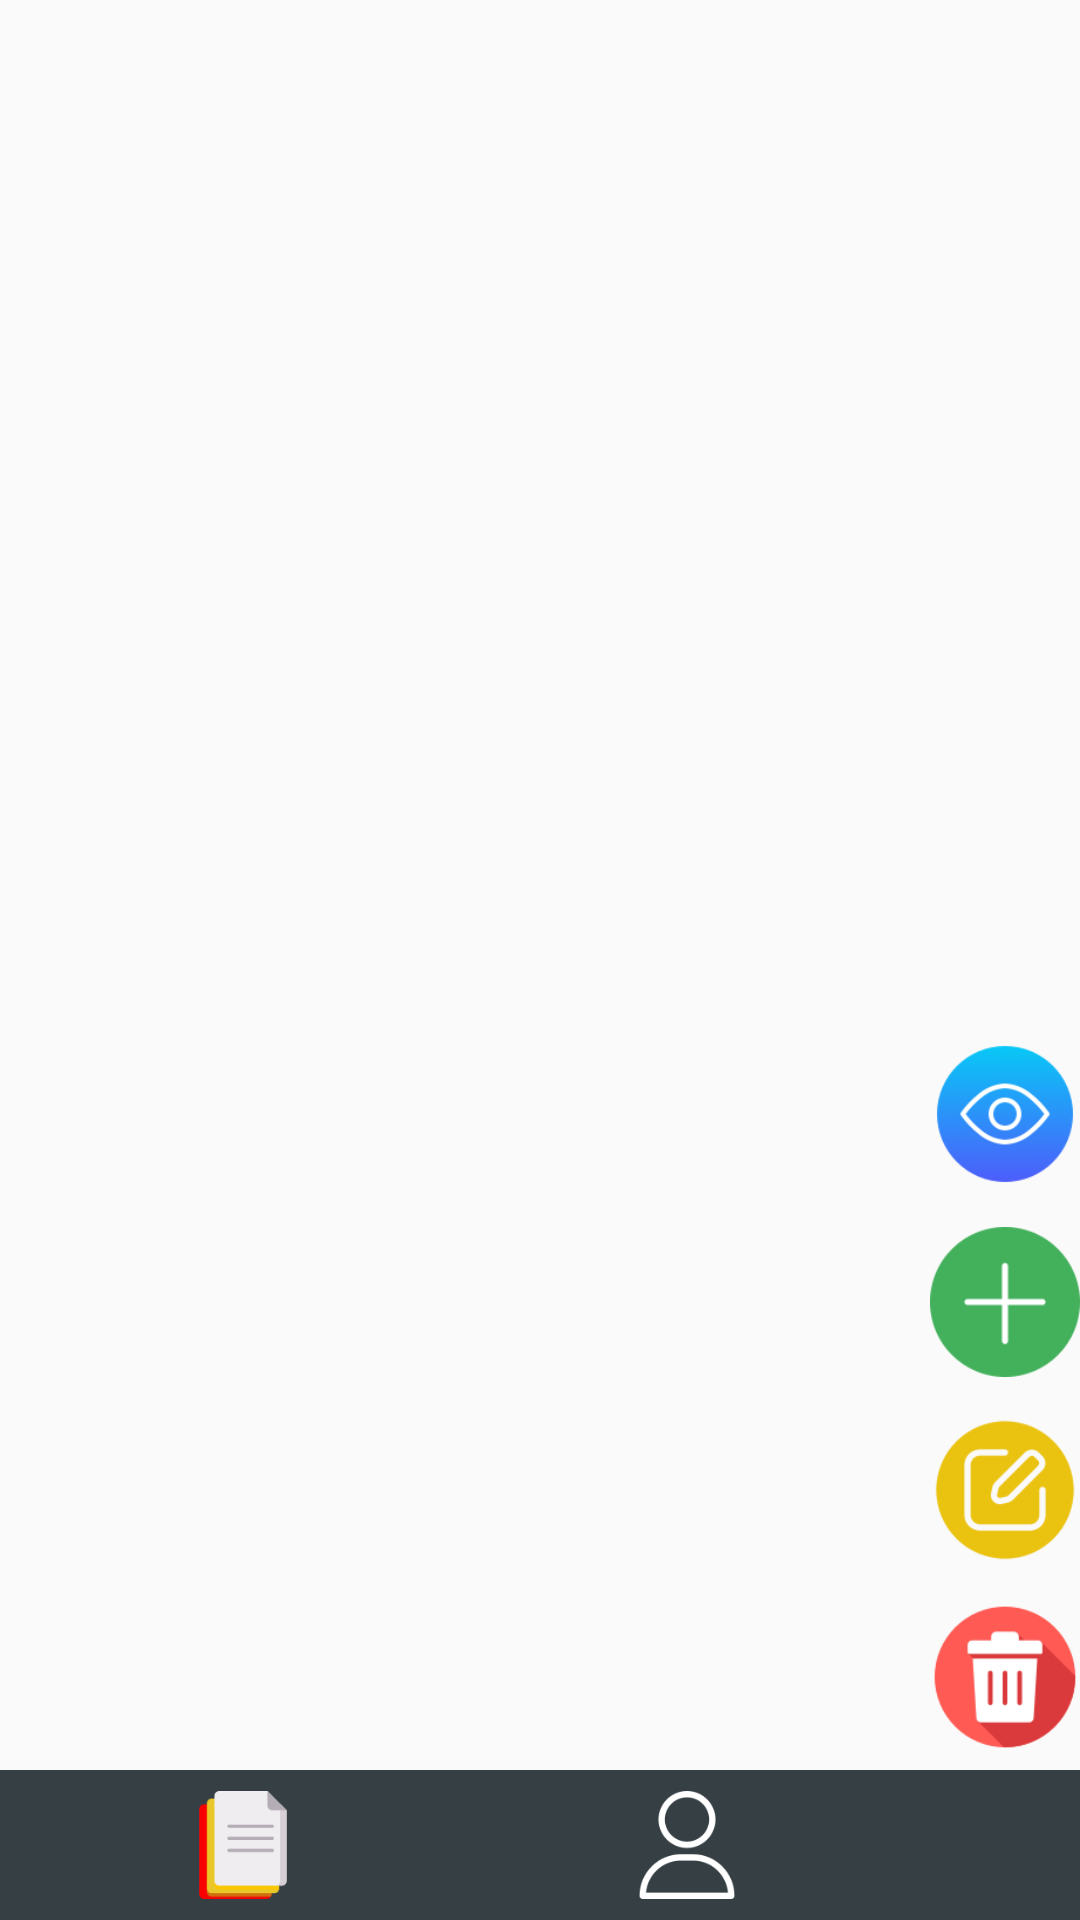

Icons on this 1080 x 1920 Android screen, each with its box as bbox(x1, y1, x2, y2):
delete: bbox(934, 1606, 1076, 1748)
documents: bbox(199, 1791, 287, 1899)
edit: bbox(935, 1420, 1075, 1560)
eye: bbox(937, 1046, 1073, 1182)
plus: bbox(930, 1227, 1080, 1377)
user: bbox(639, 1791, 735, 1899)
